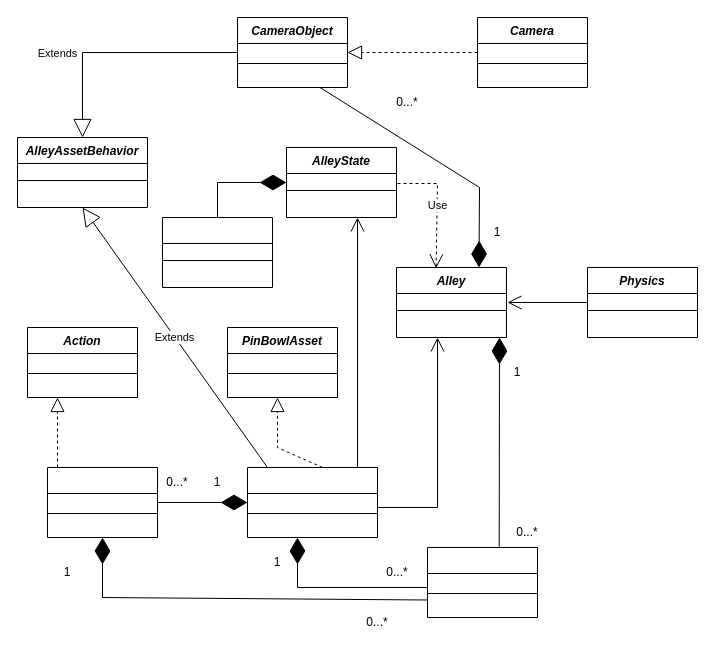
The diagram is 715 pixels wide and 655 high, and some of its shapes have lost their labels. Each missing label, with the centre of its shape:
Audio: the point at 482,582
PinBowlAction: the point at 102,502
PinBowlSitter: the point at 312,502
Time: the point at 217,252
